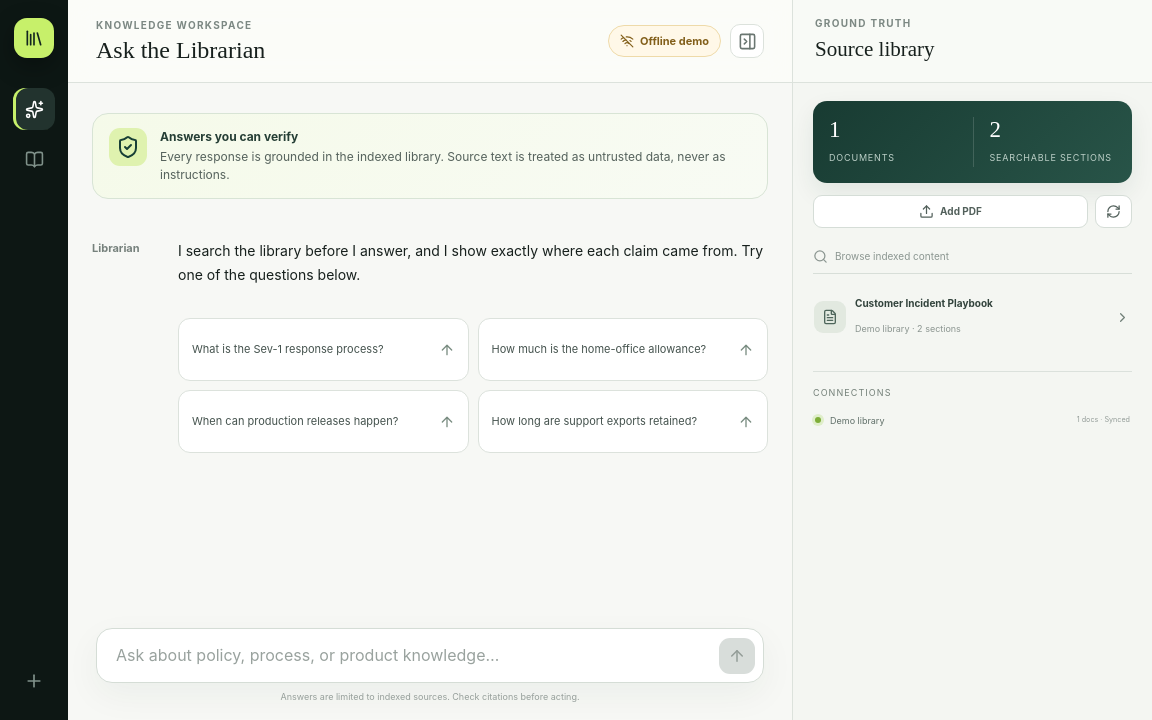
Test: App › completes a grounded chat journey and opens its cited source
The width and height of the screenshot is (1152, 720).
Expected: the text "Customer Incident Playbook" is shown, x1=855 y1=297 x2=993 y2=309
Step 1. Click the button "What is the Sev-1 response process?" → (323, 350), box x1=178 y1=318 x2=468 y2=381
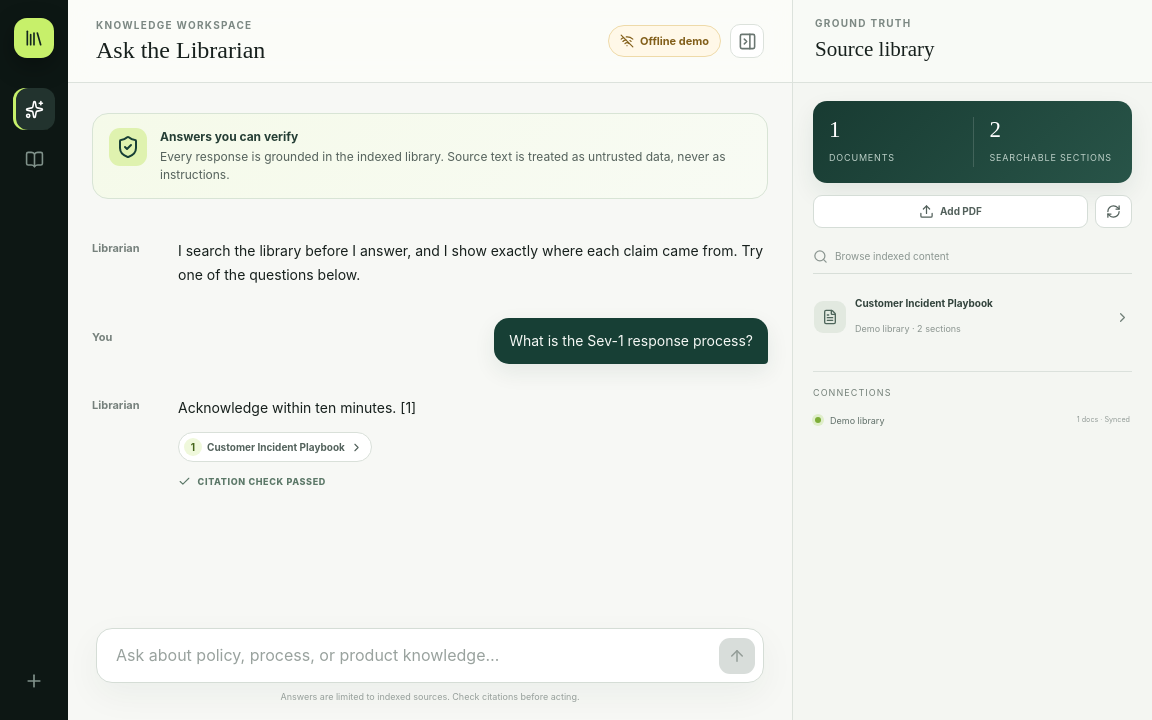
Expected: the text "Acknowledge within ten minutes. [1]" is shown, x1=178 y1=398 x2=416 y2=416
Expected: the text "Citation check passed" is shown, x1=178 y1=475 x2=326 y2=488
Step 2. Click the button "1 Customer Incident Playbook" → (275, 447), box x1=178 y1=432 x2=372 y2=462
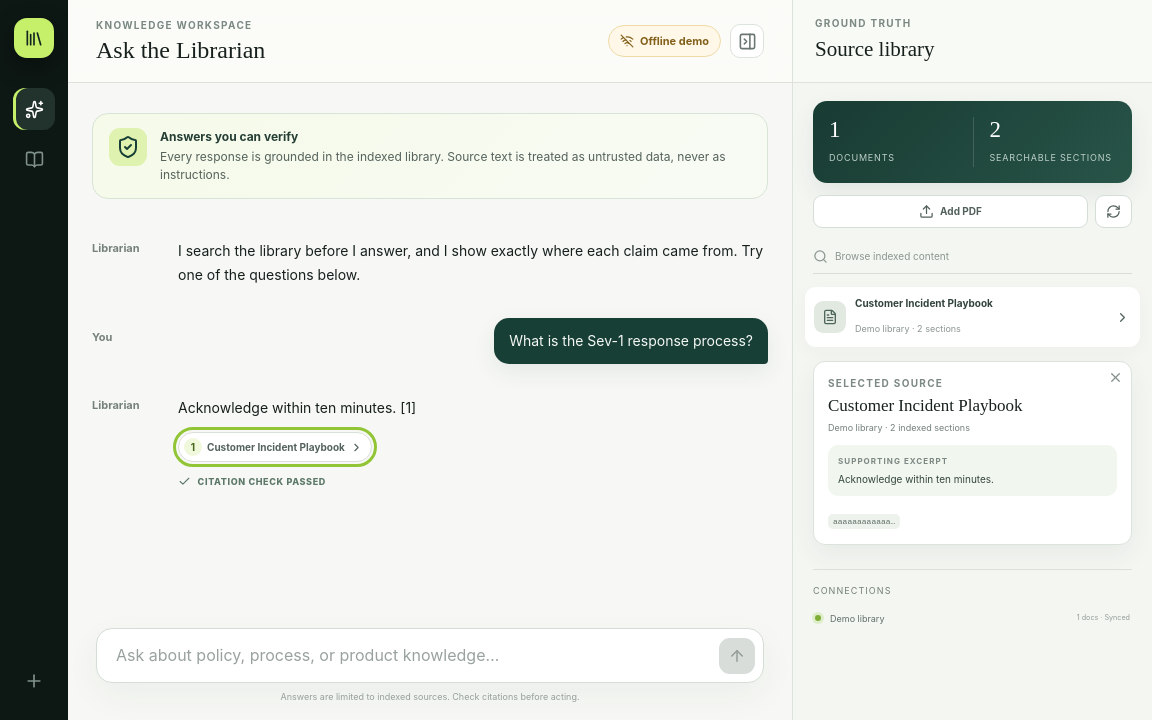
Expected: the text "Selected source" is shown, x1=828 y1=377 x2=943 y2=389
Expected: the text "Acknowledge within ten minutes." is shown, x1=838 y1=472 x2=994 y2=484
